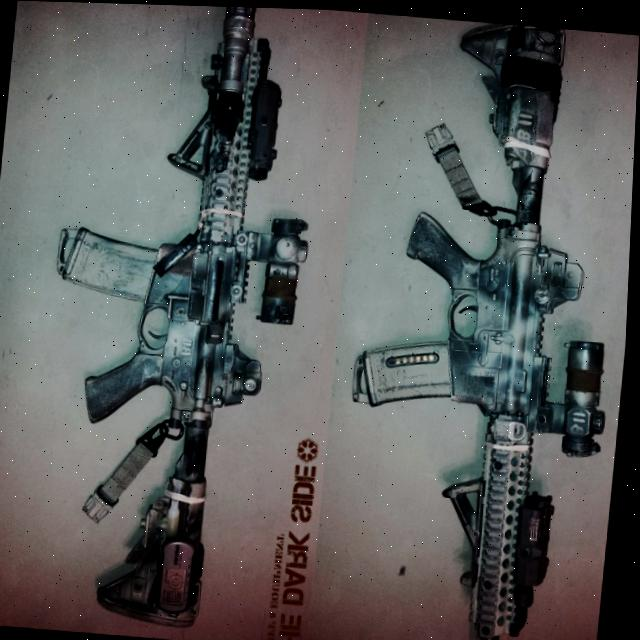firearm: (25, 1, 331, 635), (333, 11, 639, 640)
